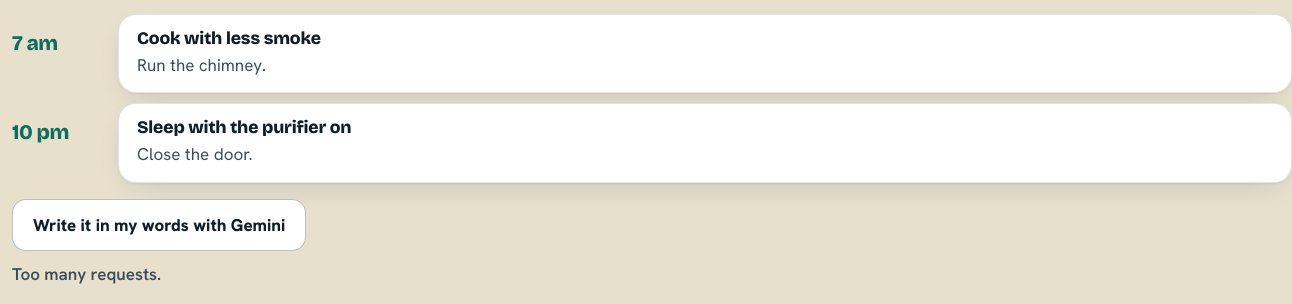
Test: DayPlan › shows a server error, then retries from the button
Check: the text "Too many requests." is shown, box x1=12 y1=261 x2=161 y2=287
Click the button at (159, 225), box x1=12 y1=199 x2=306 y2=251
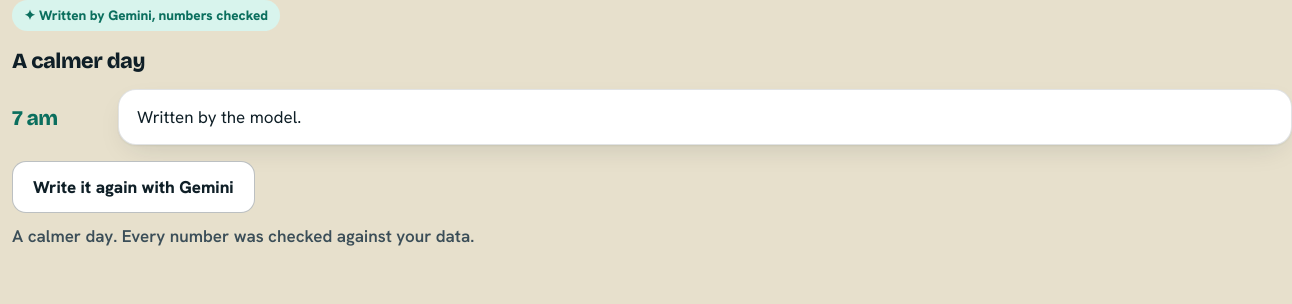
Check: the text "Written by the model." is shown, box x1=137 y1=106 x2=301 y2=128
